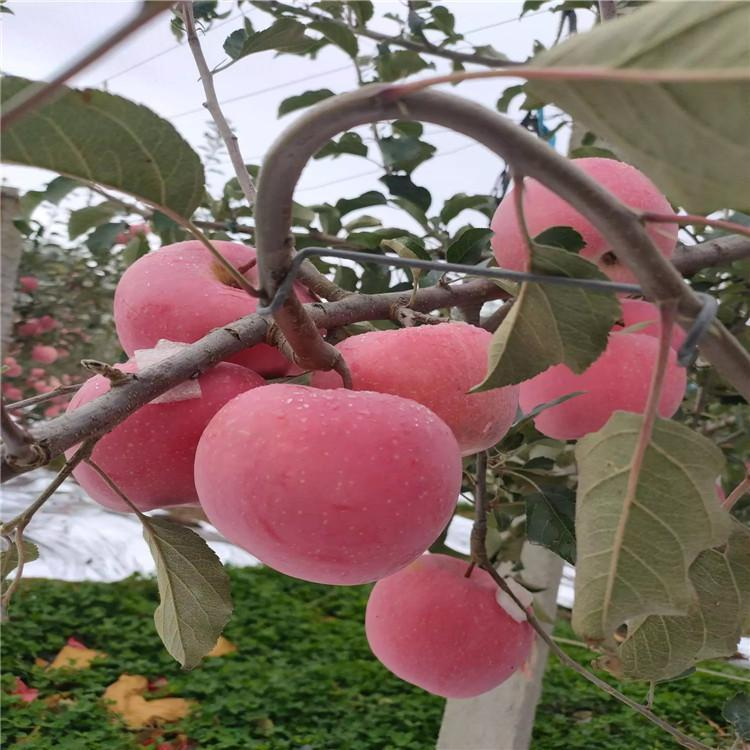apple: (192, 383, 465, 586), (64, 361, 267, 515), (309, 321, 519, 454), (112, 236, 322, 365), (492, 157, 678, 298), (363, 552, 531, 701), (515, 325, 689, 441)
